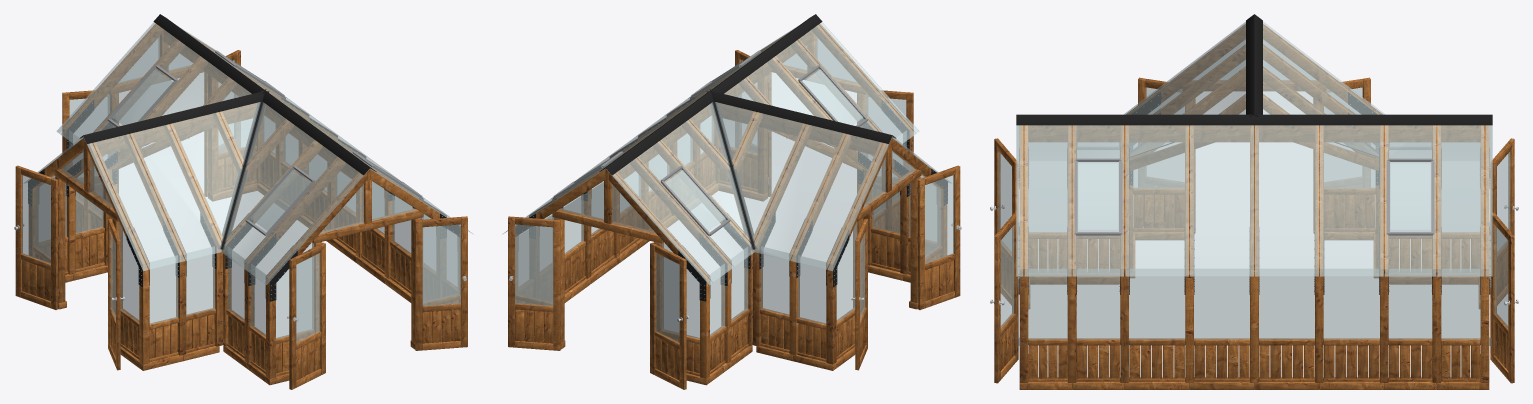
File: nordwood-greenhouse.glb
The picture shows the model from 3 angles, left to right: view 1: azimuth 30°, elevation 25°; view 2: azimuth 150°, elevation 25°; view 3: azimuth 270°, elevation 25°; orthographic projection. The views are drawn at different scales.
Parts seen in each view (by area): view 1: nordwood-tshape; view 2: nordwood-tshape; view 3: nordwood-tshape.
Boxes of the visible parts, x1=… form: nordwood-tshape: x1=14, y1=14, x2=473, y2=389; nordwood-tshape: x1=502, y1=14, x2=961, y2=389; nordwood-tshape: x1=990, y1=14, x2=1518, y2=389.
Bounding box in the file's own units: 4.62 × 2.81 × 6.11.
Materials: 7 (3 with a texture image).
